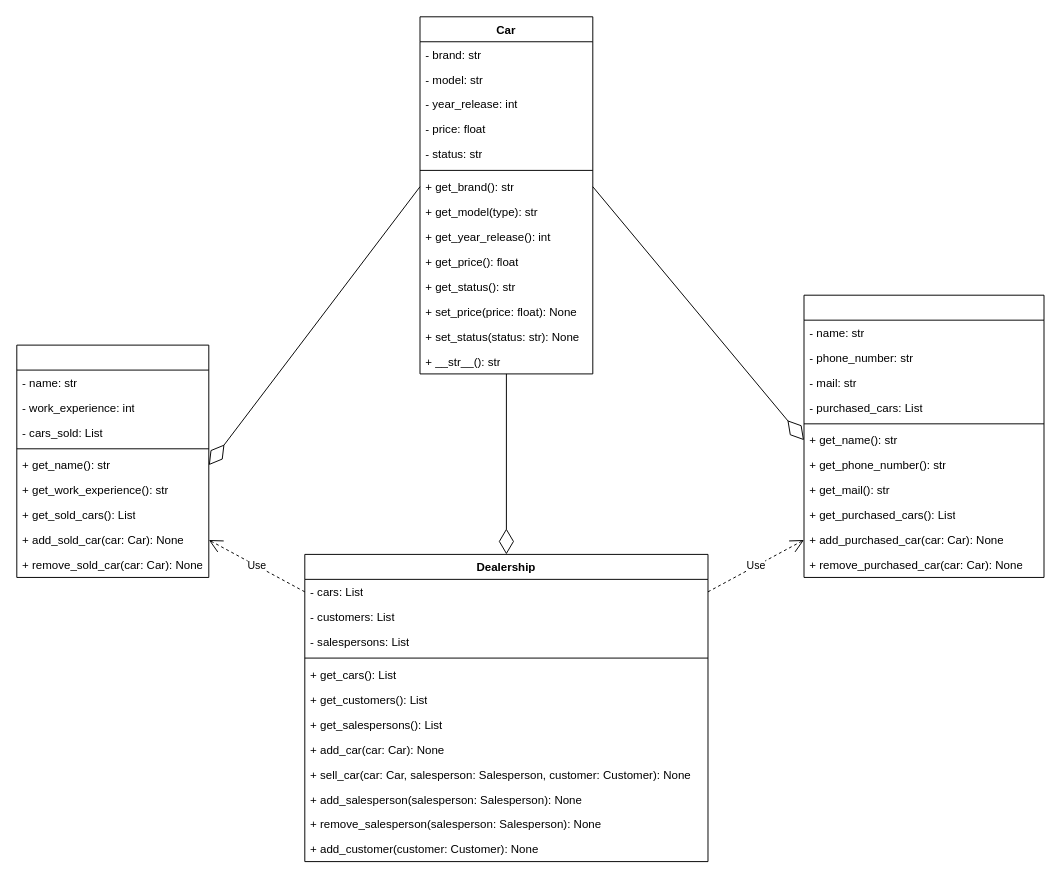
The diagram is 1061 pixels wide and 881 high, and some of its shapes have lost their labels. Each missing label, with the box of its shape:
Customer: (803, 294, 1044, 577)
Salesperson: (16, 344, 209, 577)
